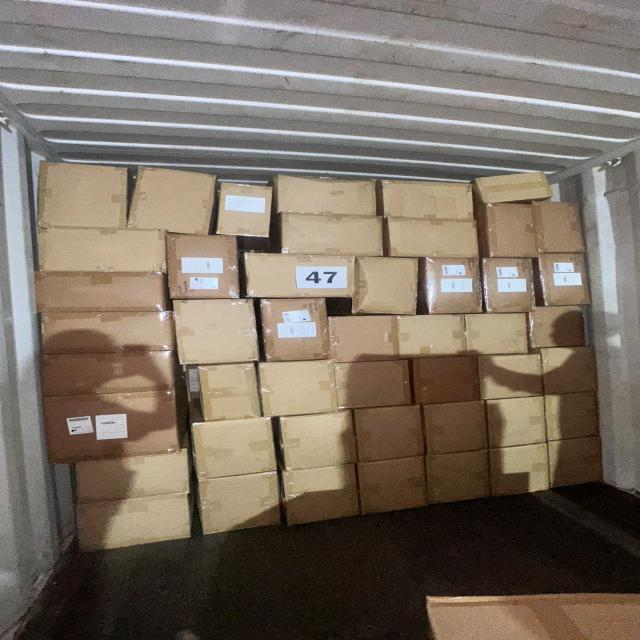Carton: (36, 392, 187, 457), (72, 493, 191, 551), (32, 160, 128, 229), (33, 228, 169, 274), (65, 453, 195, 501), (170, 298, 260, 364), (29, 271, 171, 312), (41, 352, 179, 394), (192, 472, 282, 536), (161, 232, 244, 298), (240, 252, 356, 298), (36, 311, 172, 350), (190, 419, 279, 478), (133, 166, 210, 234), (279, 465, 363, 526), (276, 212, 386, 258), (277, 411, 358, 471), (255, 297, 332, 360), (257, 360, 342, 417), (346, 405, 430, 462), (381, 215, 485, 261), (274, 172, 381, 216), (193, 364, 266, 423), (332, 359, 416, 410), (542, 435, 614, 493), (348, 256, 421, 313), (380, 178, 480, 219), (424, 398, 491, 456), (485, 394, 552, 451), (361, 458, 430, 513), (475, 198, 539, 257), (488, 440, 552, 498), (529, 198, 592, 255), (422, 256, 484, 313), (429, 449, 491, 505), (542, 389, 604, 444), (328, 314, 398, 362), (394, 313, 467, 359), (408, 358, 480, 403), (216, 180, 271, 238), (536, 253, 594, 307), (481, 258, 537, 312), (539, 346, 601, 394), (464, 311, 530, 356), (477, 355, 543, 399), (473, 174, 564, 205), (529, 307, 592, 347)
